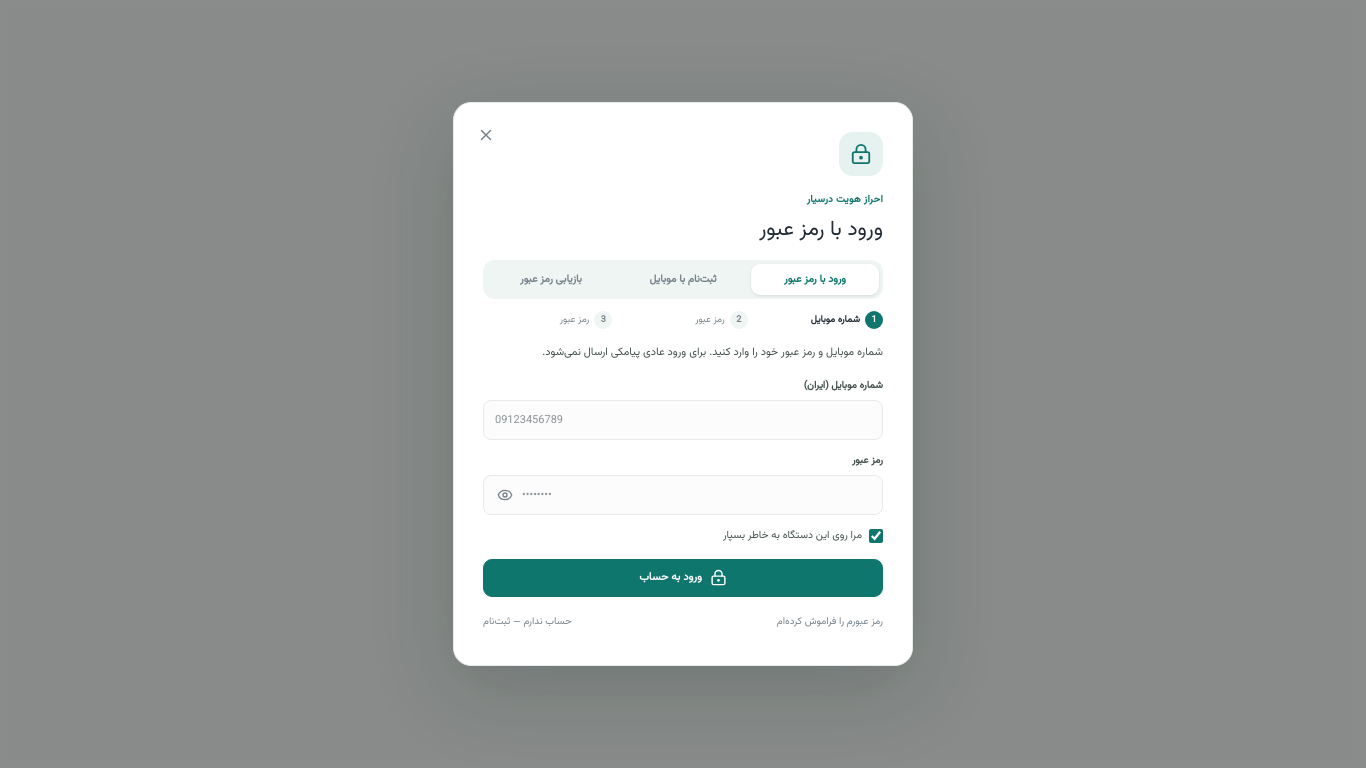
Test: AuthFlowModal — password login and recovery › shows a wrong-password message without dropping the typed phone number
Type "09120000000" into the field with placeholder "09123456789". click: (683, 420)
box: [483,400,883,440]
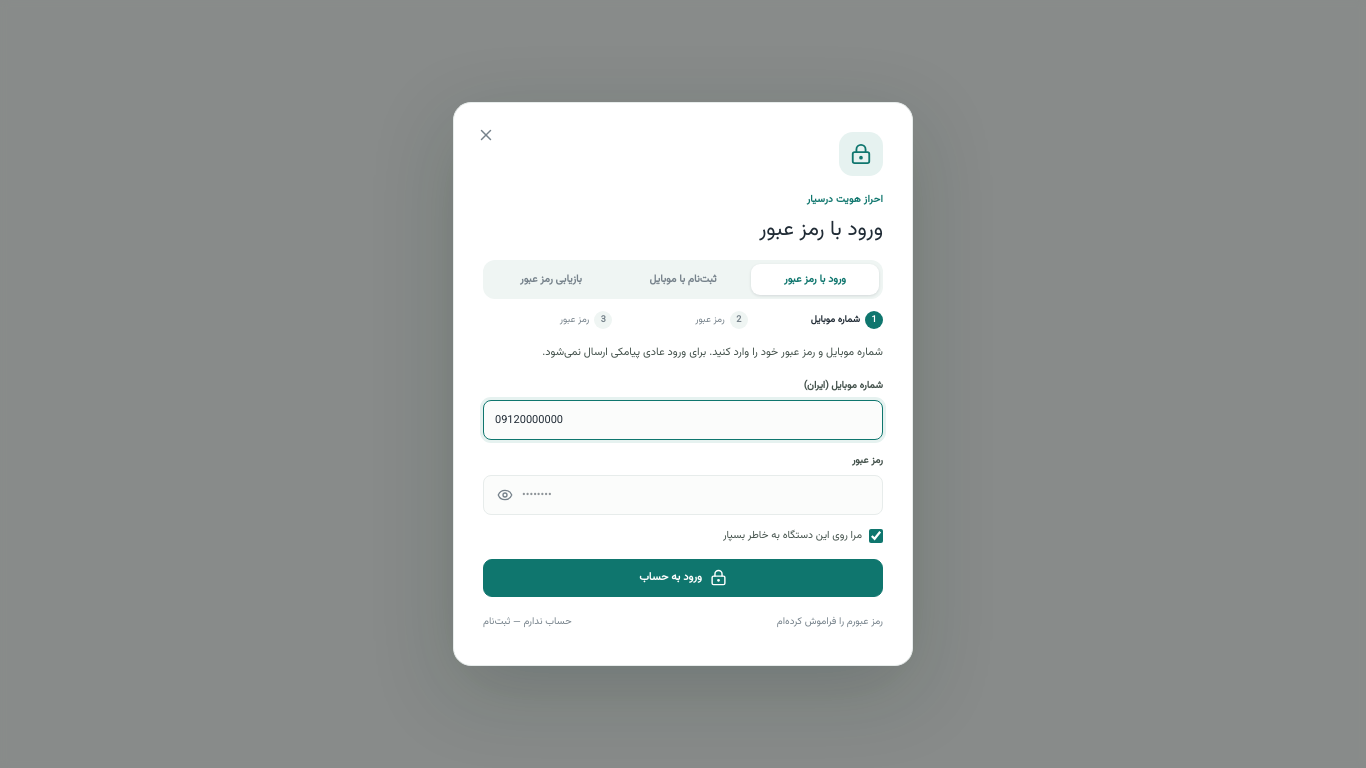
Type "wrong-pass" into the password field labelled "رمز عبور". click: (683, 495)
box: [483,475,883,515]
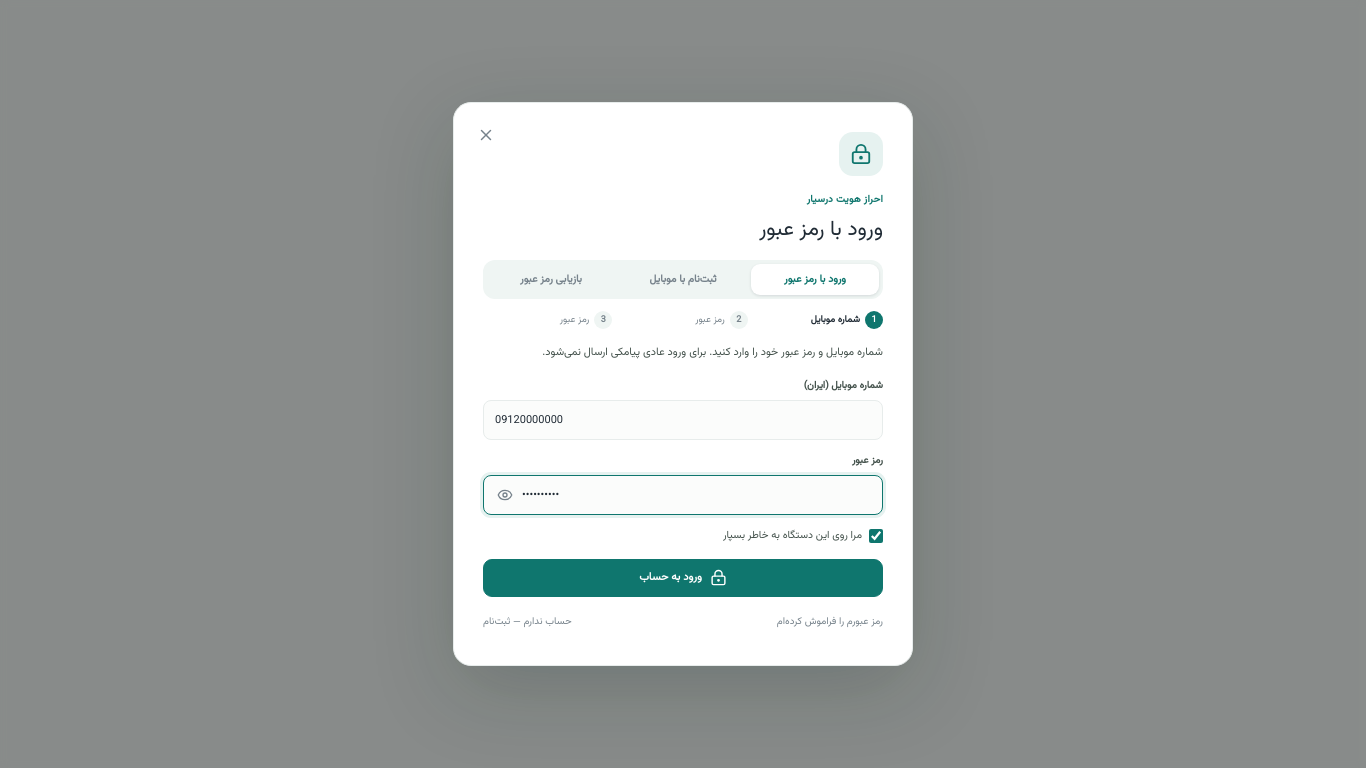
Click the button "ورود به حساب". click: (683, 578)
box: [483,559,883,597]
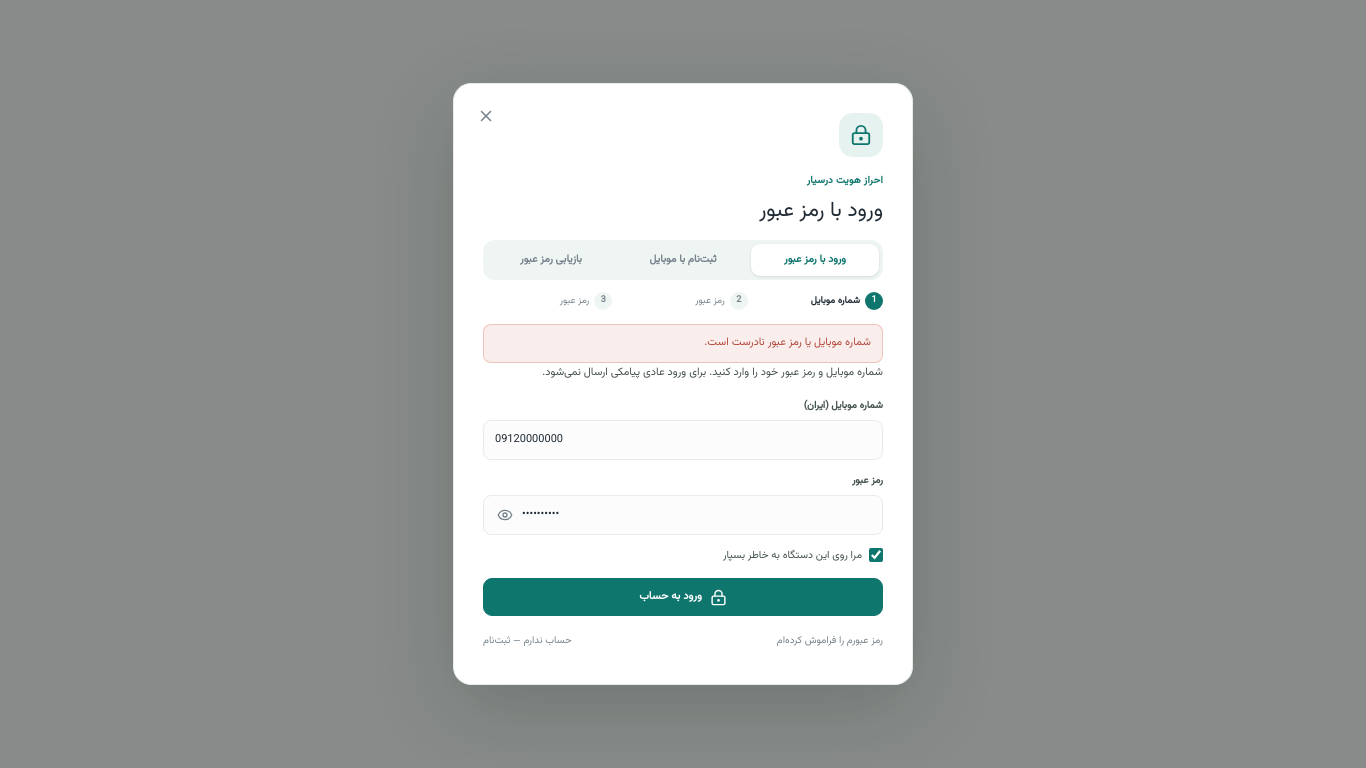
Check: the message shows "نادرست است", box [704,334,871,351]
